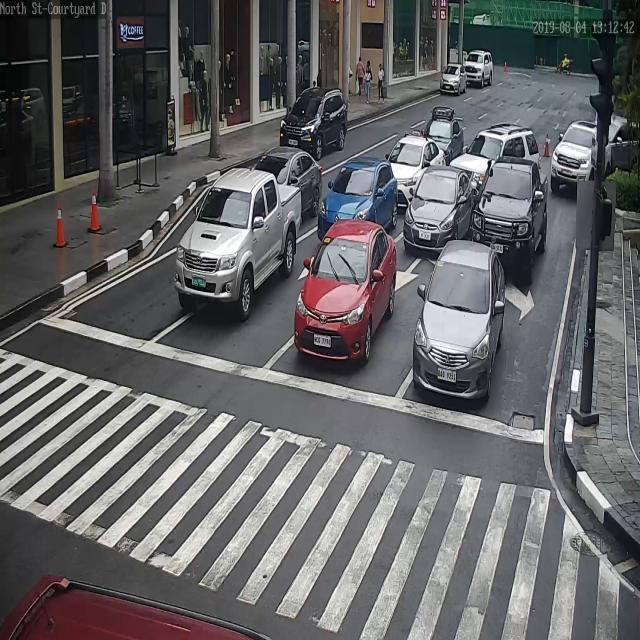car: (177, 165, 299, 316), (293, 218, 397, 366), (412, 238, 504, 396), (471, 154, 549, 281), (249, 148, 322, 239), (402, 165, 475, 253), (318, 159, 399, 238), (452, 127, 539, 183), (278, 87, 348, 156), (387, 135, 446, 206), (550, 121, 609, 190), (608, 114, 640, 173), (423, 113, 464, 159), (463, 50, 494, 88), (438, 63, 467, 95)
jeepney: (558, 48, 574, 75)
